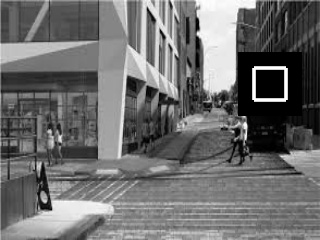square: (238, 52, 301, 116)
